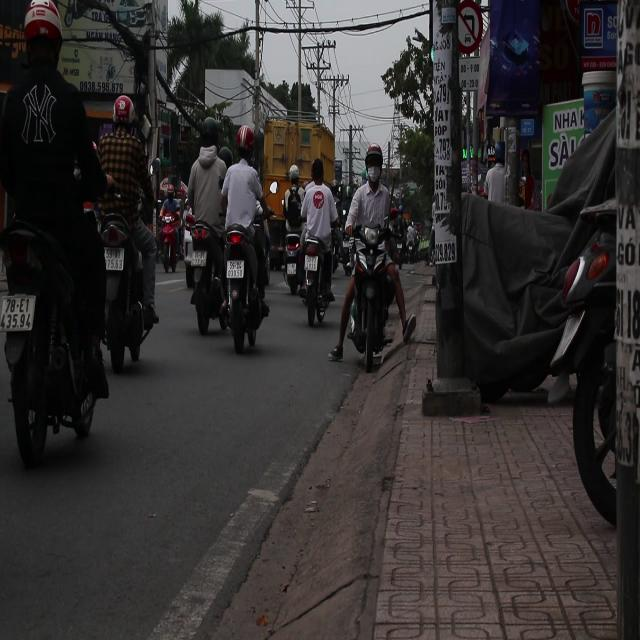motorbike: (0, 207, 114, 461), (100, 204, 152, 378), (209, 210, 270, 354), (346, 214, 394, 372), (183, 209, 230, 344), (291, 217, 336, 328), (156, 192, 185, 274), (282, 228, 304, 300)
